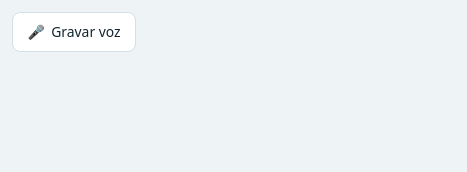
32-34. gravador de voz › navegador sem MediaRecorder avisa em vez de estourar
The image size is (467, 172).
Step 1. Click the button with aria-label "gravar mensagem de voz" → (74, 32), box x1=12 y1=12 x2=136 y2=52
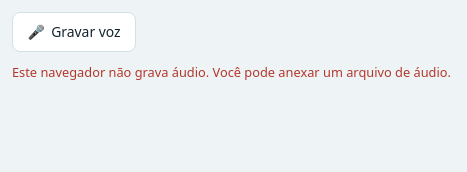
Expected: the message shows "não grava áudio", x1=12 y1=63 x2=451 y2=81
